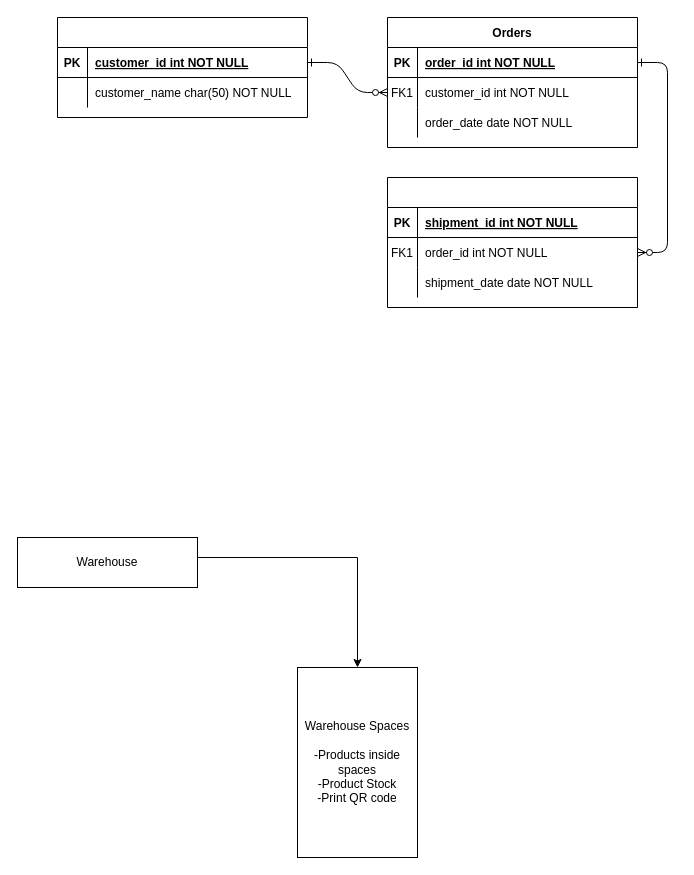
Some shapes in this 694 by 875 pixel diagram are drawn without their labels. Each missing label, with the box of its shape:
Customers: (56, 16, 308, 118)
Shipments: (386, 176, 638, 308)
